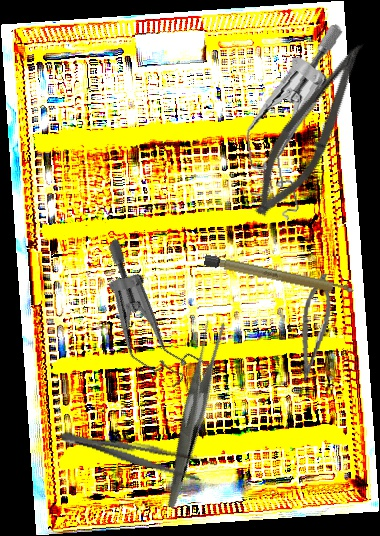Dressing Forceps: (112, 314, 272, 510), (57, 423, 218, 486)
Micro Scissor: (241, 28, 377, 229), (294, 270, 336, 386)
Scalpel Handle: (203, 254, 355, 298)
Speculum: (62, 236, 245, 402), (232, 23, 362, 225)
